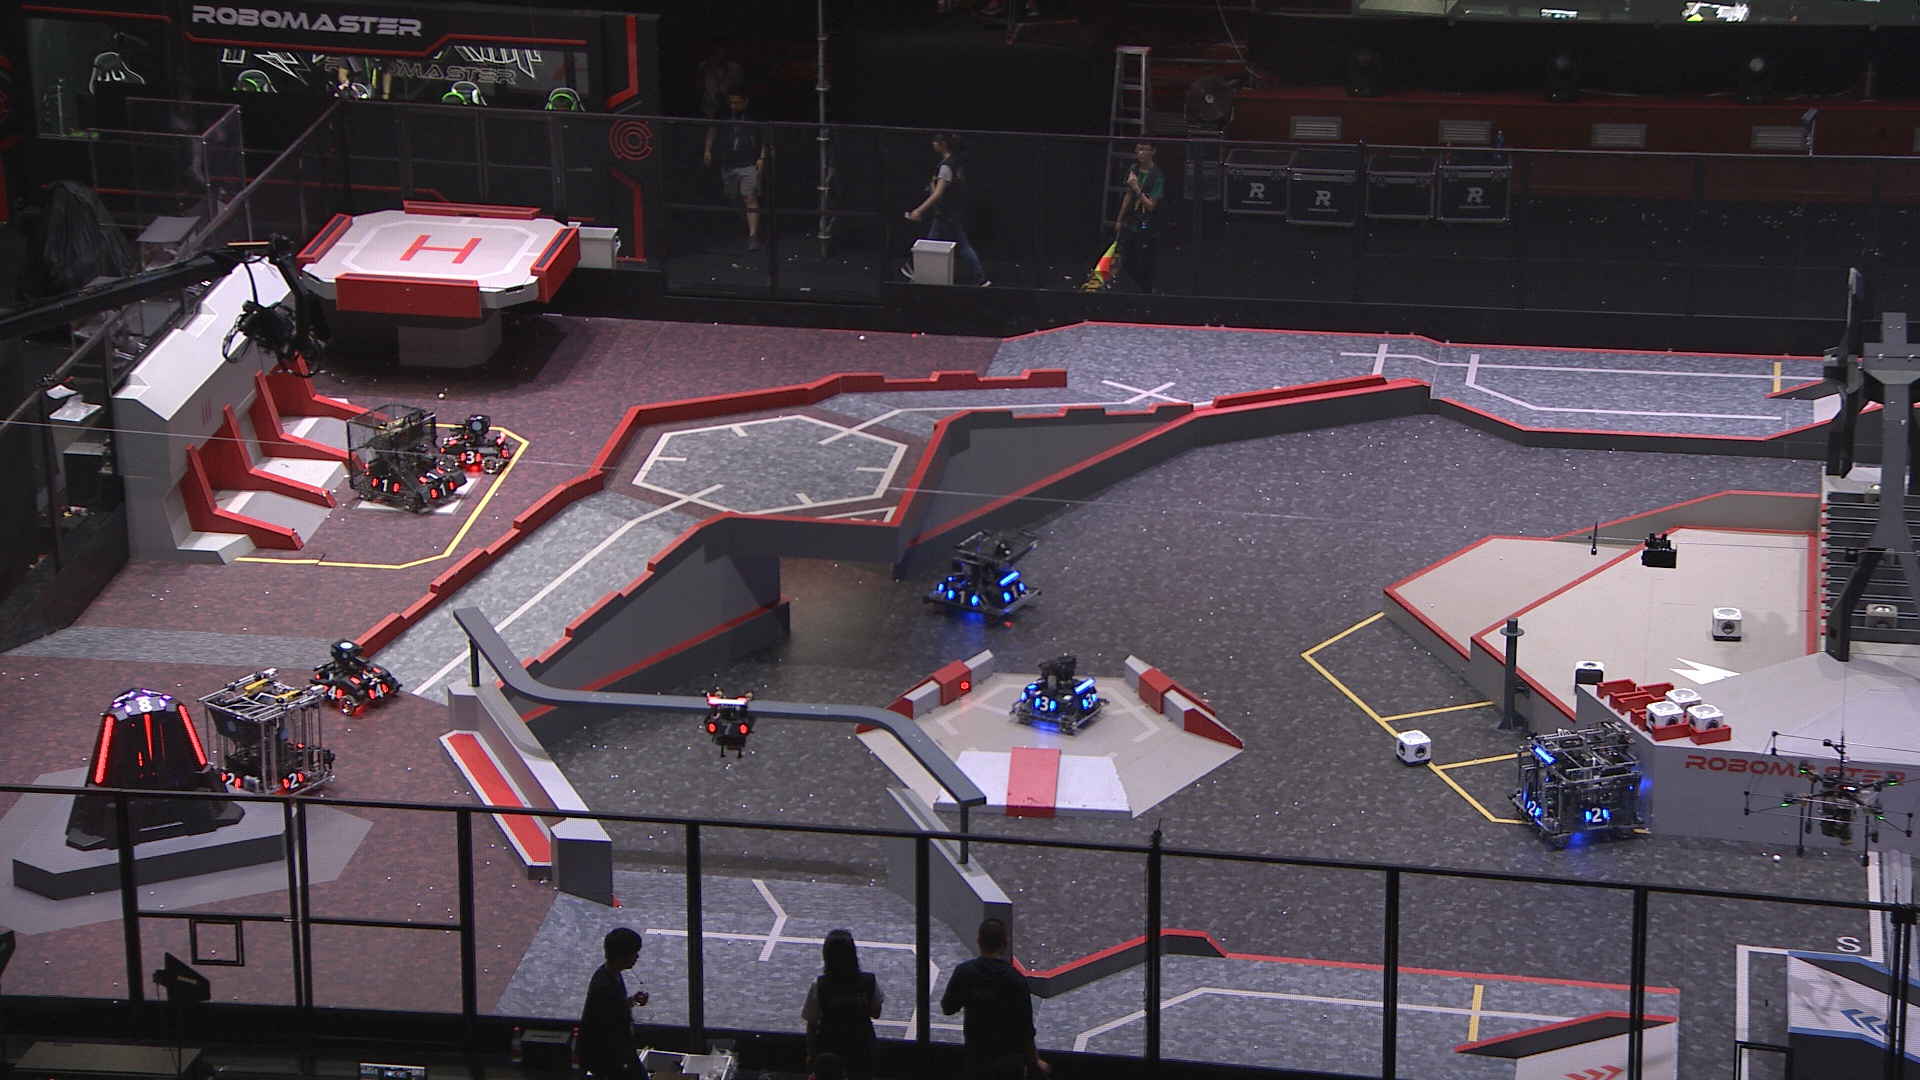armor: (177, 703, 207, 765), (91, 716, 113, 785), (945, 589, 981, 612), (707, 721, 749, 738), (142, 713, 154, 760), (347, 669, 381, 684), (429, 480, 458, 498), (1582, 807, 1611, 825), (1004, 582, 1026, 603), (417, 469, 448, 484), (371, 479, 400, 495), (282, 770, 306, 789), (222, 771, 245, 790), (318, 684, 345, 700), (1034, 698, 1058, 713), (1077, 694, 1100, 709), (365, 684, 392, 698), (458, 450, 484, 463), (1523, 799, 1542, 818), (443, 433, 465, 446), (500, 444, 510, 462), (1029, 678, 1044, 688)
base: (65, 683, 245, 851)
car: (199, 665, 339, 802), (1505, 719, 1646, 845), (344, 400, 472, 513), (924, 529, 1044, 622), (1011, 655, 1110, 733), (311, 637, 400, 716), (436, 410, 513, 473)
ignore: (124, 698, 167, 713), (107, 694, 131, 709)
watcher: (703, 690, 760, 761)
